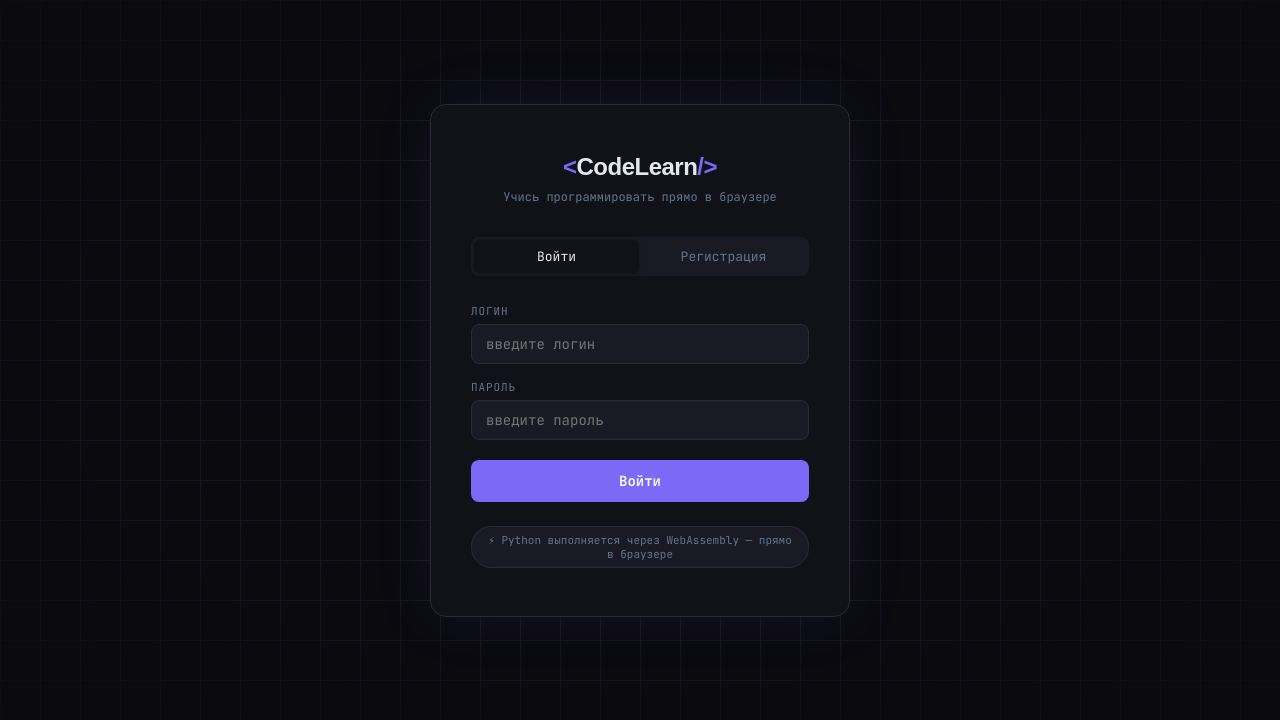
Test case: исключение при запросе → «Ошибка сети», кнопка снова доступна
Type "alice" into the field with placeholder "введите логин". click: {"x": 640, "y": 344}
box: x1=471 y1=324 x2=809 y2=364
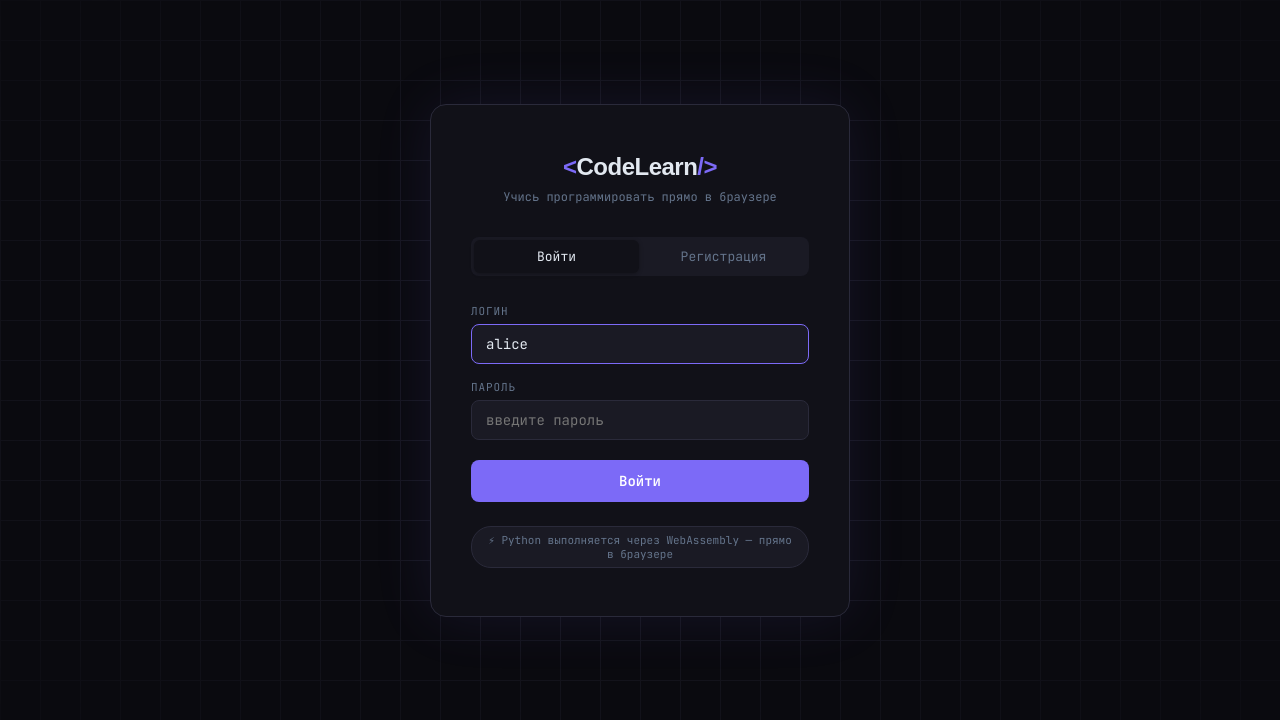
Type "secret" into the password field with placeholder "введите пароль". click: {"x": 640, "y": 420}
box: x1=471 y1=400 x2=809 y2=440
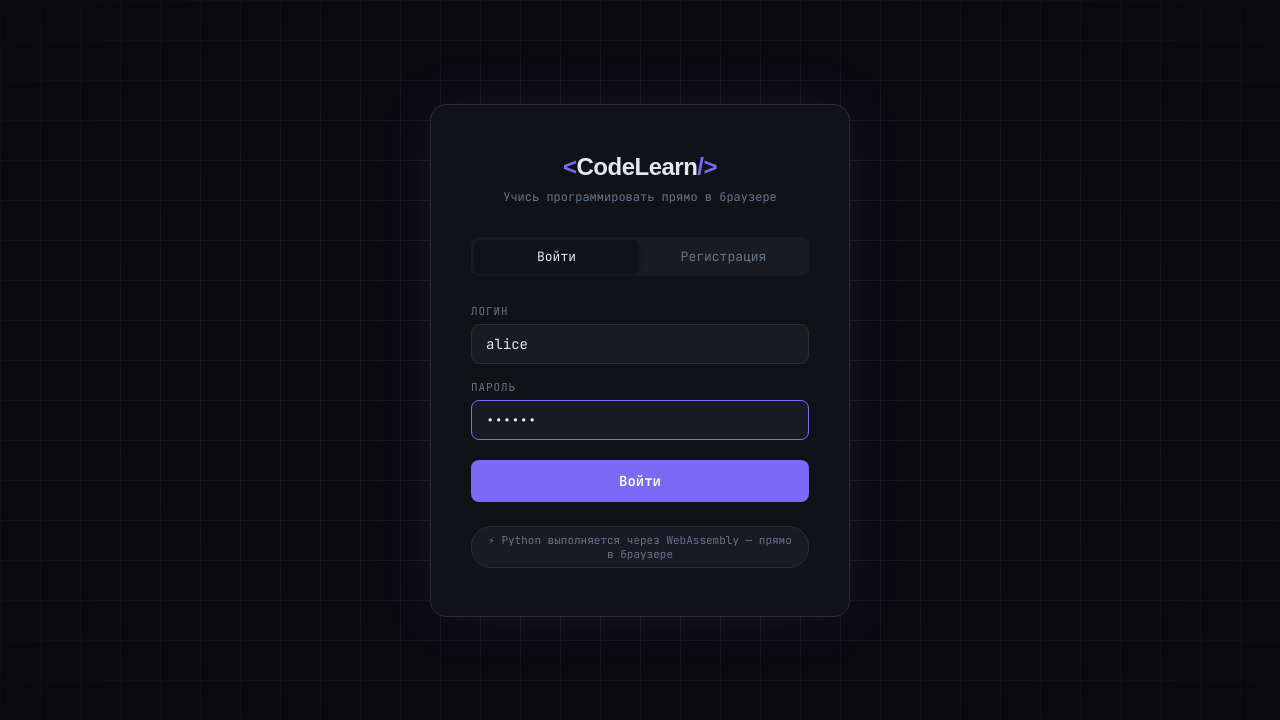
Click the button with class "auth-btn". click: {"x": 640, "y": 480}
box: x1=471 y1=460 x2=809 y2=502
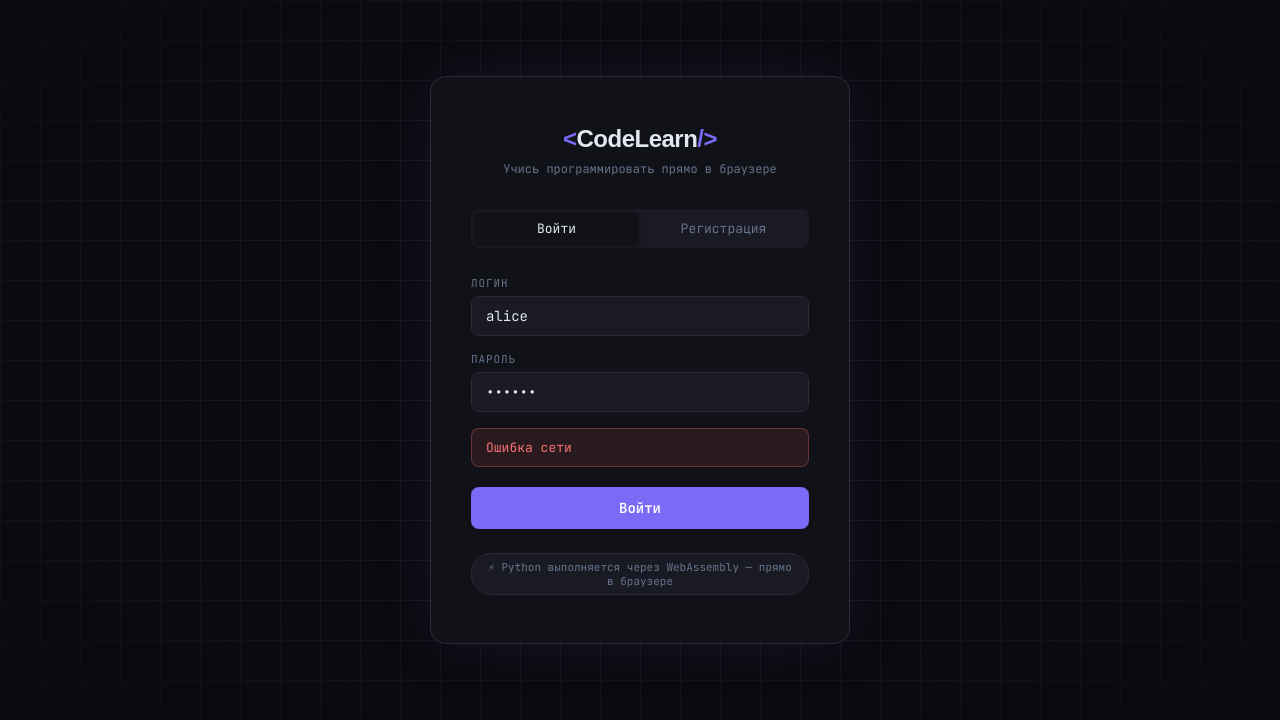
Check: the button with class "auth-btn" is enabled, box x1=471 y1=487 x2=809 y2=529
Check: the text "Ошибка сети" is shown, box x1=471 y1=428 x2=809 y2=467
